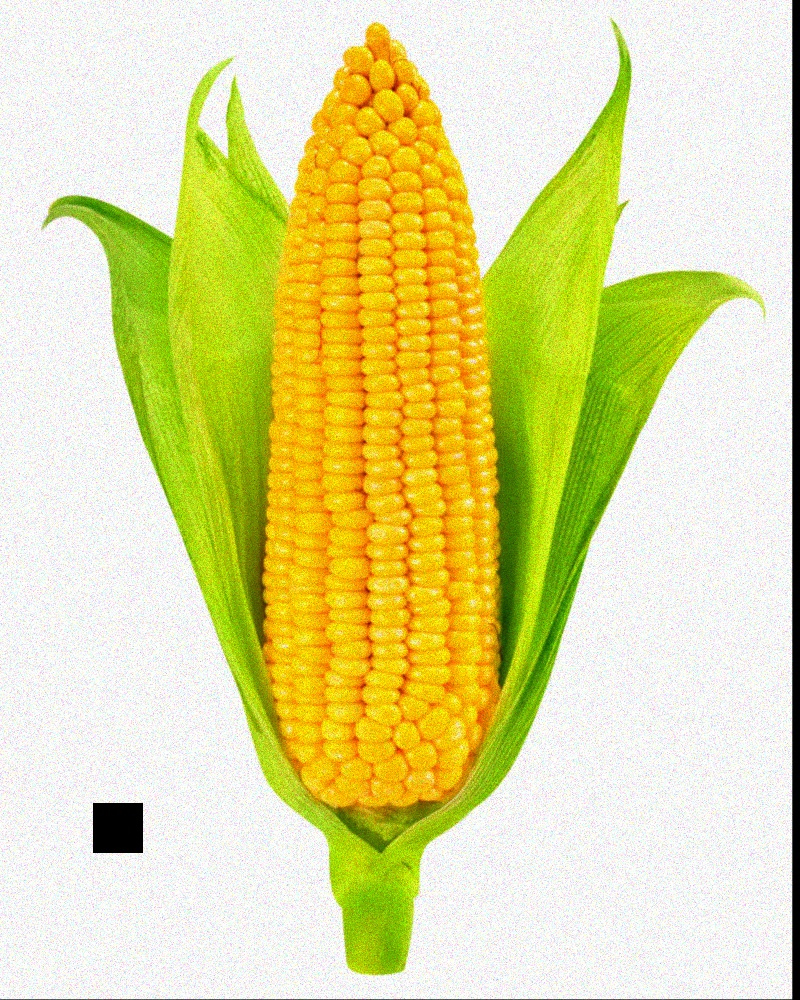corn: (243, 11, 498, 838)
